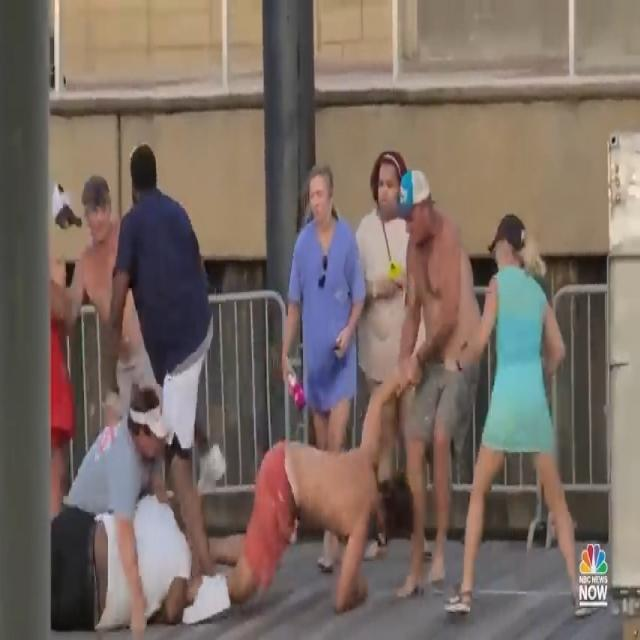fight: (50, 157, 490, 635)
